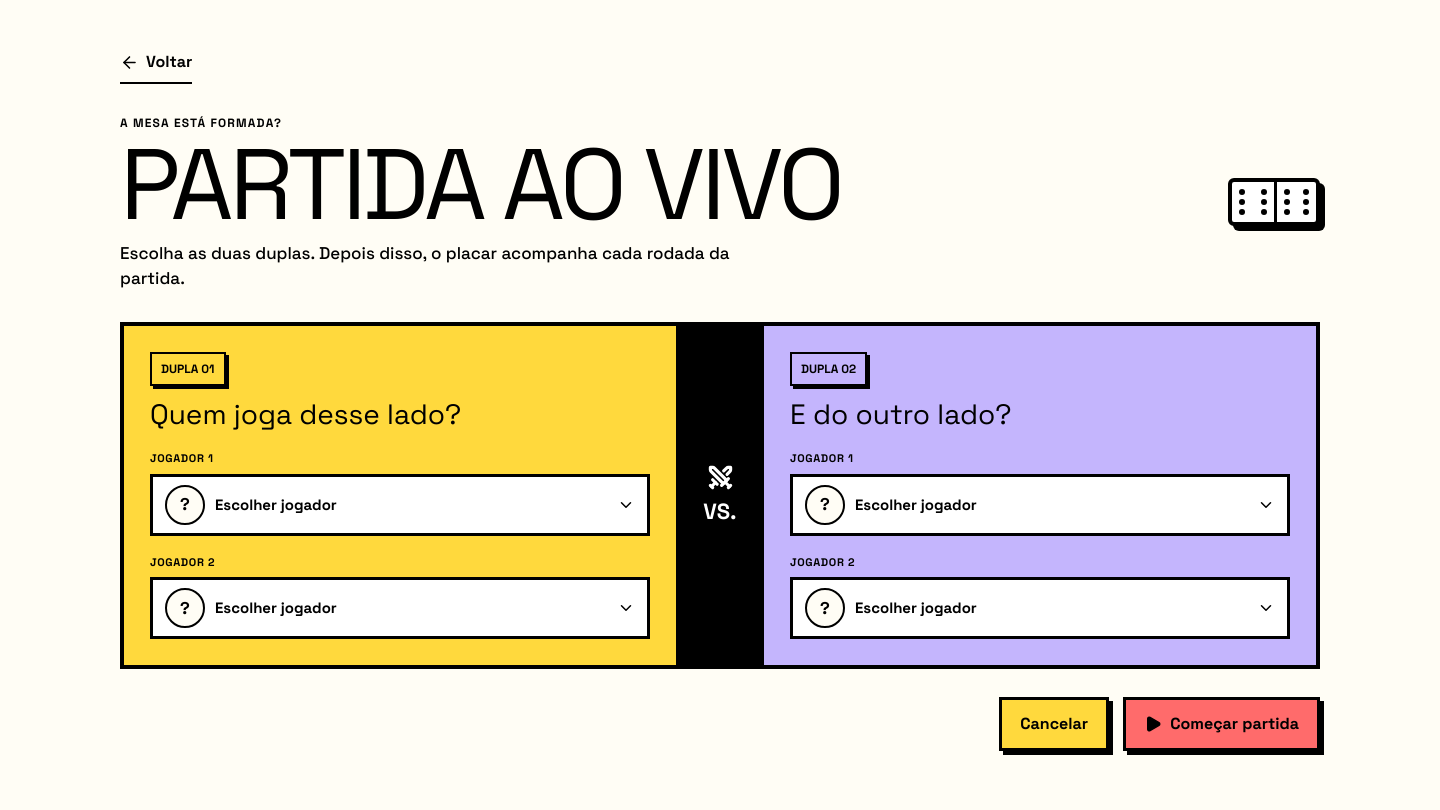
LiveGameSetup › não oferece novamente um jogador já selecionado
Step 1. Click the 1st button "? Escolher jogador" → coordinates (185, 505), box [150,474,650,536]
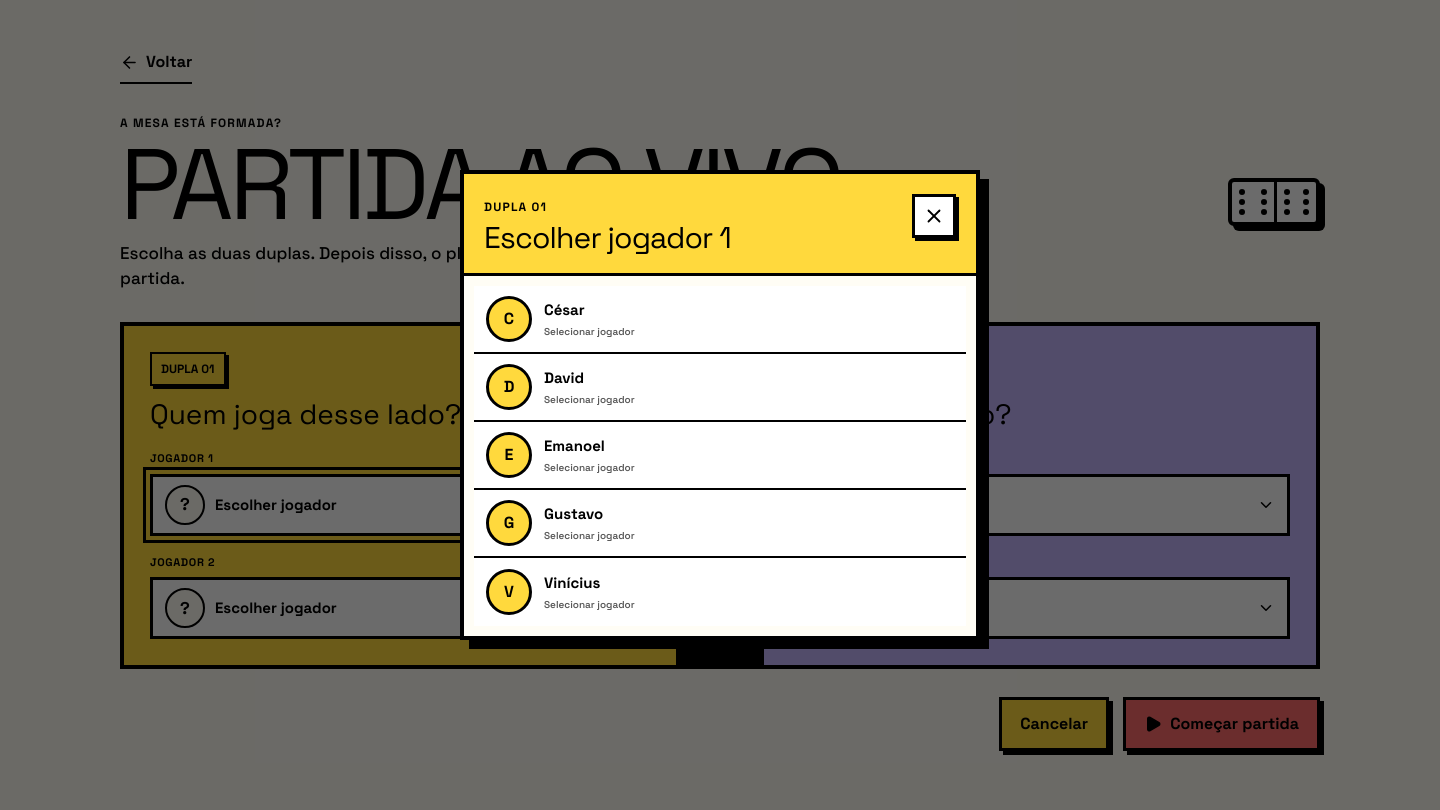
Step 2. Click the button "C César Selecionar jogador" → coordinates (509, 319), box [474,286,966,354]
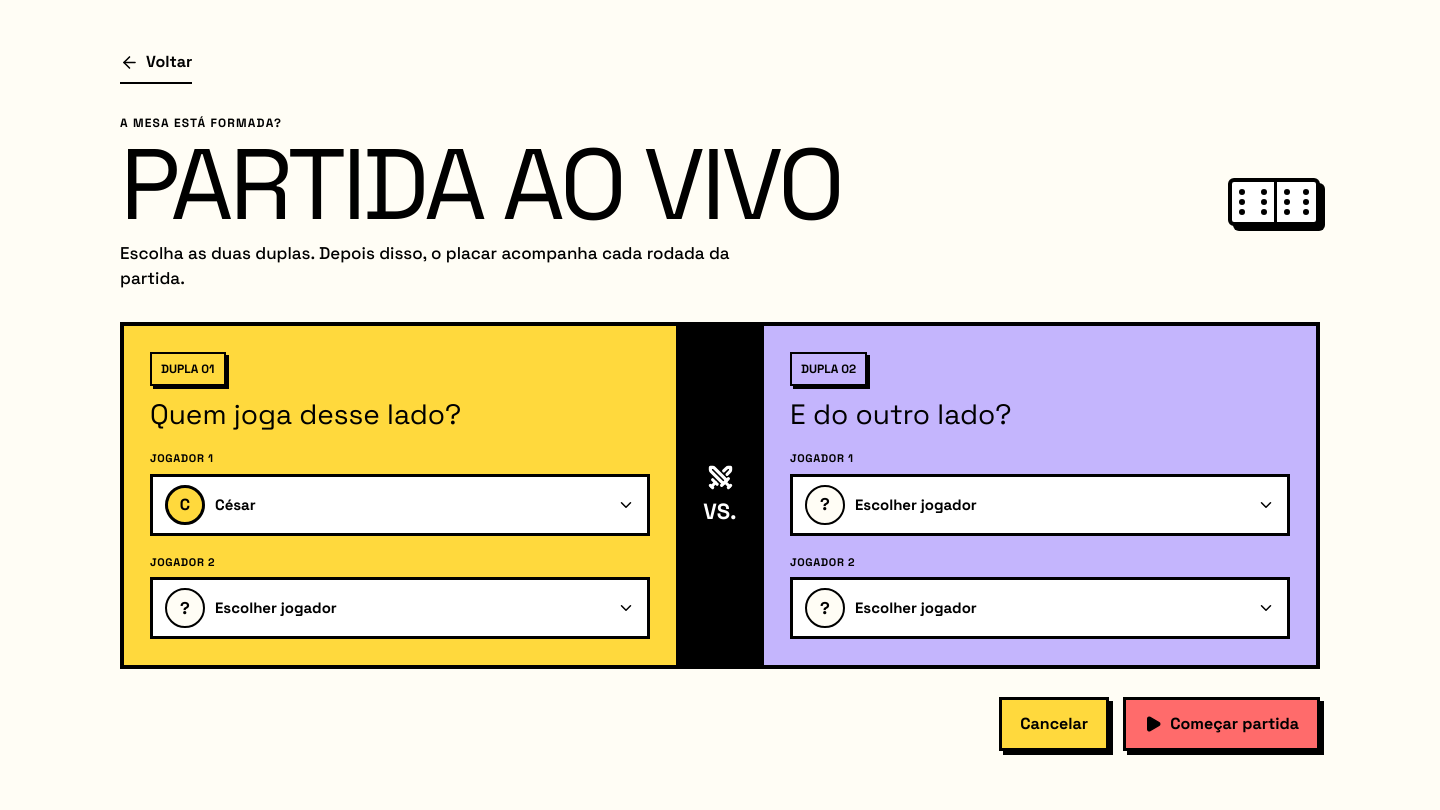
Step 3. Click the button "? Escolher jogador" below "Quem joga desse lado?" → coordinates (185, 608), box [150,577,650,639]
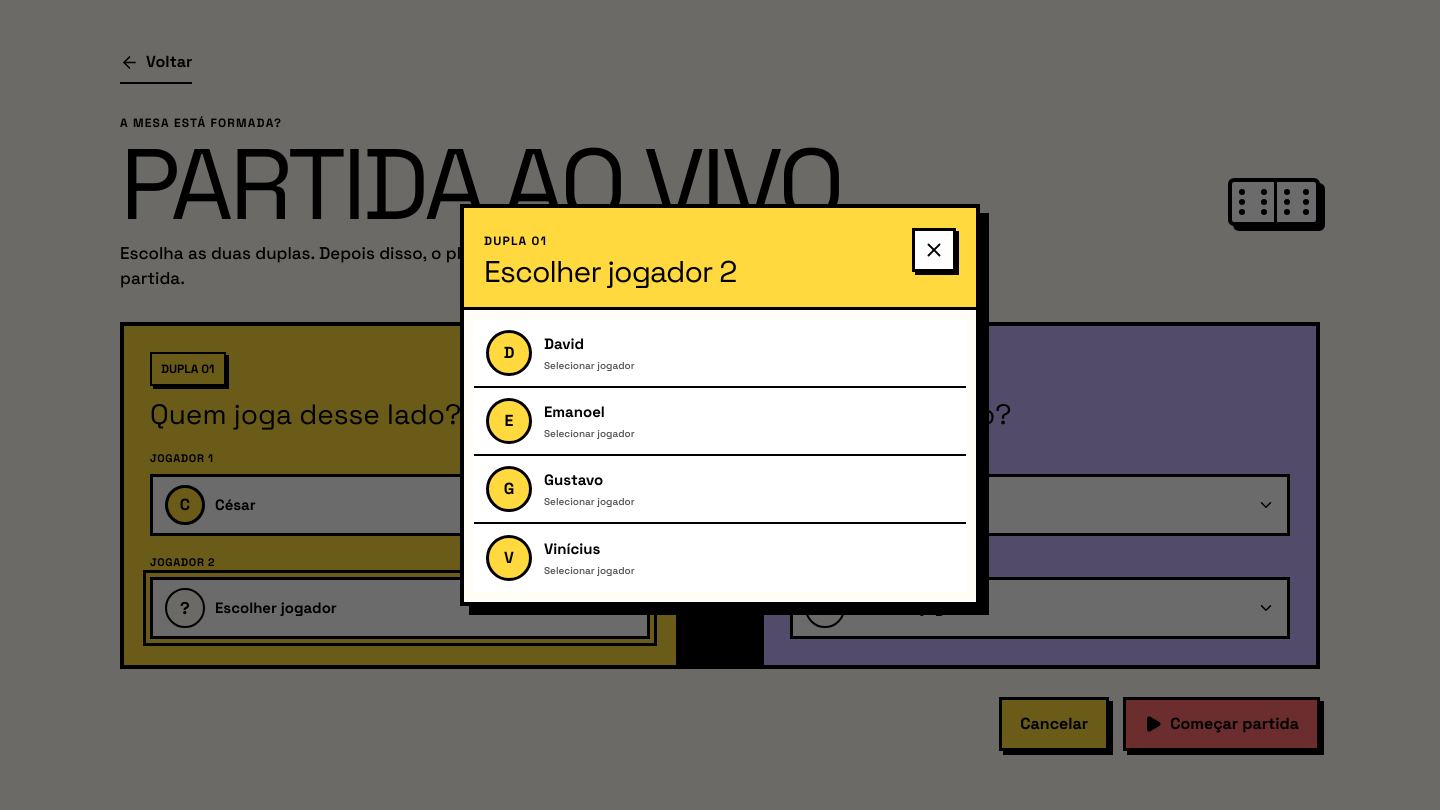
Check: the button "V Vinícius Selecionar jogador" is shown, box [474,524,966,592]
